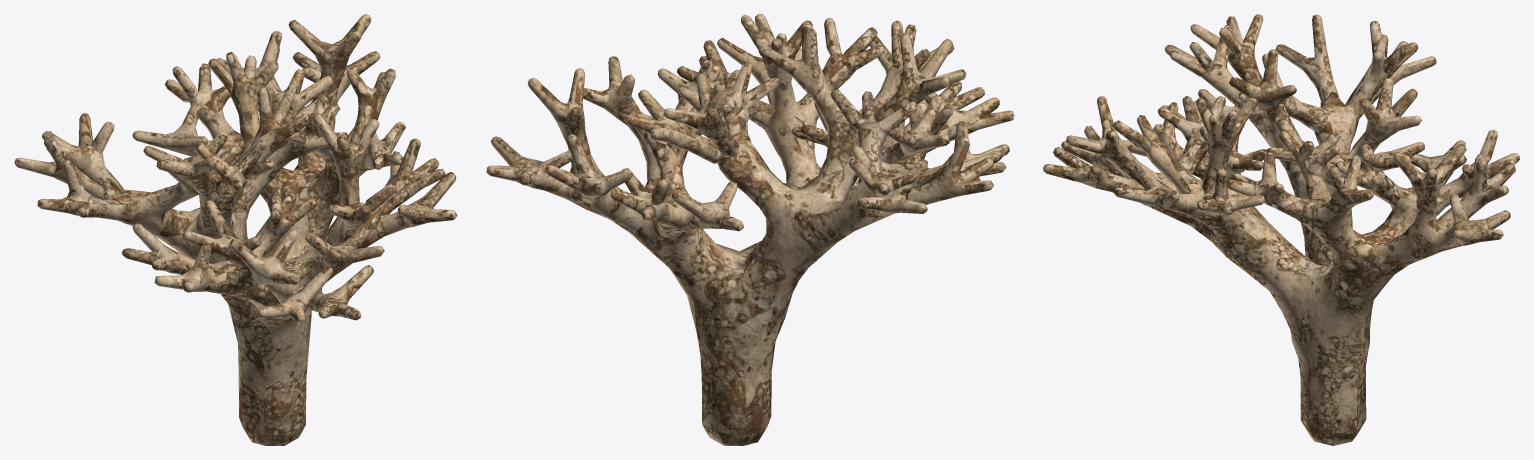
File: coral_tree_c.glb
The picture shows the model from 3 angles, left to right: view 1: azimuth 30°, elevation 25°; view 2: azimuth 150°, elevation 25°; view 3: azimuth 270°, elevation 25°; orthographic projection. The views are drawn at different scales.
Visible parts, largest first — view 1: coral_tree_c; view 2: coral_tree_c; view 3: coral_tree_c.
Part boxes in pixels (x1=…): coral_tree_c: x1=14, y1=14, x2=457, y2=445; coral_tree_c: x1=486, y1=14, x2=1014, y2=445; coral_tree_c: x1=1043, y1=14, x2=1519, y2=445.
Size of the model in its own units: 7.47 by 6.71 by 7.77.
1 material, 1 textured.
